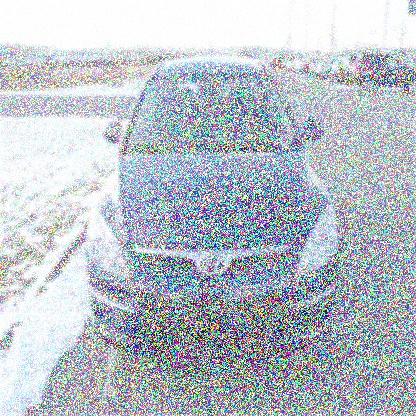Vehicle: (83, 53, 344, 364)
